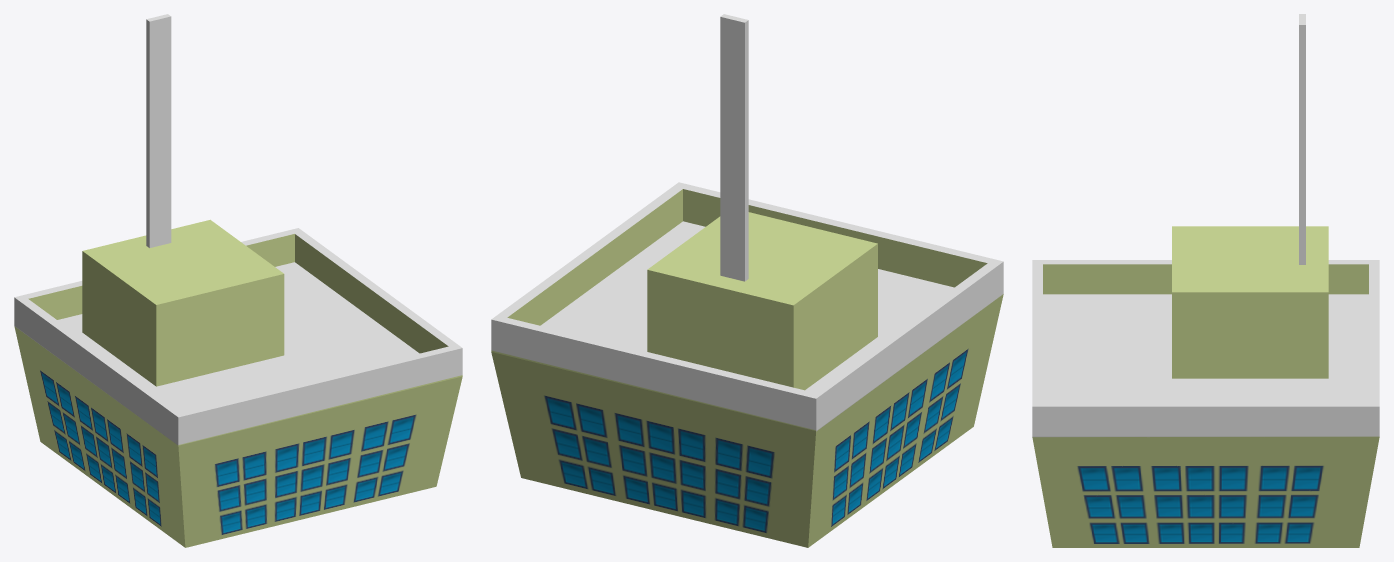
Rendered from Building_1_Top.fbx.
The picture shows the model from 3 angles, left to right: view 1: azimuth 30°, elevation 25°; view 2: azimuth 150°, elevation 25°; view 3: azimuth 270°, elevation 25°; orthographic projection. The views are drawn at different scales.
Visible parts, largest first — view 1: Building_1_Topt; view 2: Building_1_Topt; view 3: Building_1_Topt.
Boxes of the visible parts, <box> form: Building_1_Topt: <box>14,14,462,547</box>; Building_1_Topt: <box>491,14,1003,547</box>; Building_1_Topt: <box>1032,14,1379,547</box>.
Size of the model in its own units: 105 by 149 by 105.
